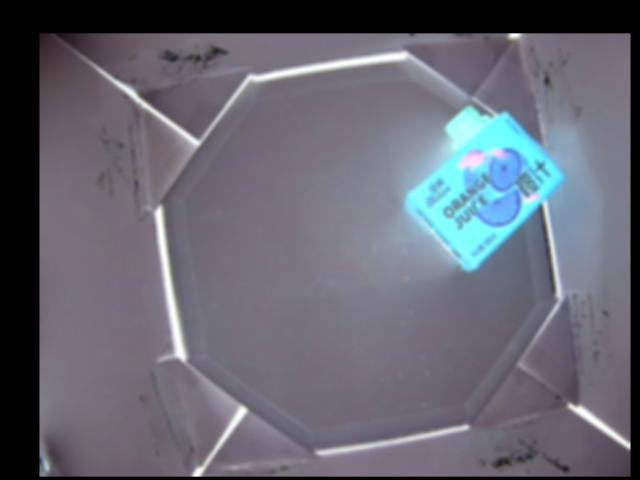Bottle: (400, 102, 566, 274)
